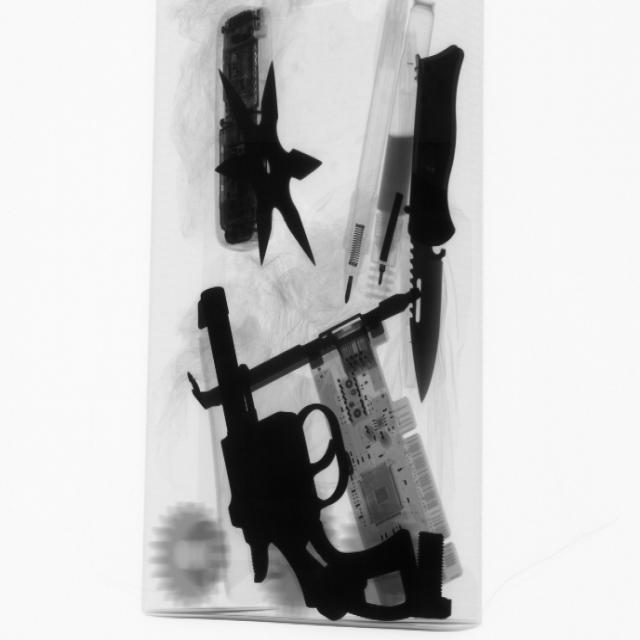GUN: (195, 281, 422, 625)
KNIFE: (395, 40, 477, 397)
SHURIKEN: (215, 56, 325, 273)
